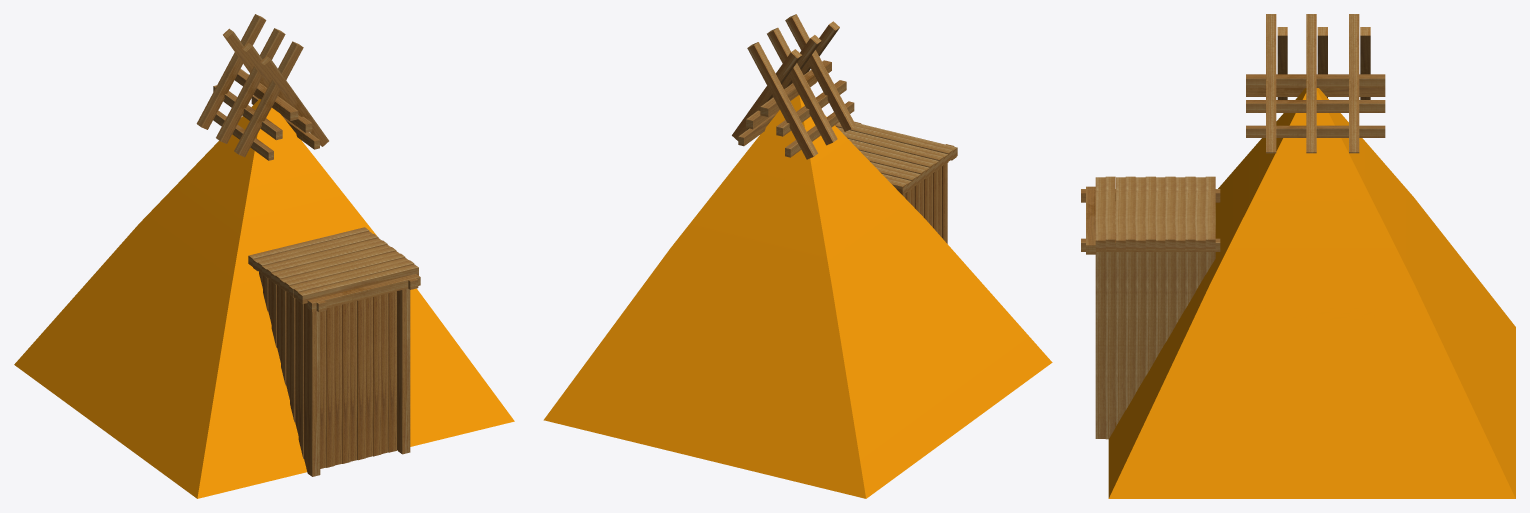
Rendered from ie_ora.fbx.
3 views of the same model, side by side, from view 1: azimuth 30°, elevation 25°; view 2: azimuth 150°, elevation 25°; view 3: azimuth 270°, elevation 25° (orthographic). The views are drawn at different scales.
Visible parts, largest first — view 1: pCube34; view 2: pCube34; view 3: pCube34.
Part boxes in pixels (left/top/right/bottom): pCube34: left=14, top=14, right=514, bottom=498; pCube34: left=543, top=14, right=1052, bottom=498; pCube34: left=1081, top=14, right=1515, bottom=498.
Size of the model in its own units: 400 by 429 by 427.
